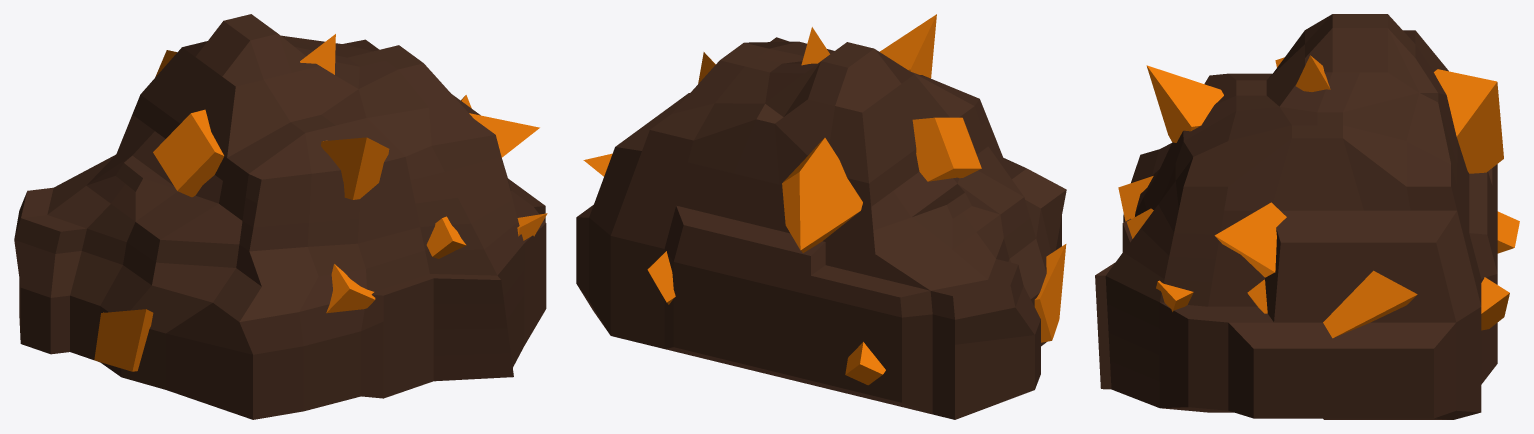
Rendered from CopperOre.fbx.
The picture shows the model from 3 angles, left to right: view 1: azimuth 30°, elevation 25°; view 2: azimuth 150°, elevation 25°; view 3: azimuth 270°, elevation 25°; orthographic projection. The views are drawn at different scales.
Parts seen in each view (by area): view 1: Ore; view 2: Ore; view 3: Ore.
Part boxes in pixels (box(x1,y1,x2,y2)): Ore: box(14, 14, 547, 419); Ore: box(576, 14, 1066, 419); Ore: box(1095, 14, 1519, 419).
Bounding box in the file's own units: 193 × 118 × 152.
1 material, 1 textured.
